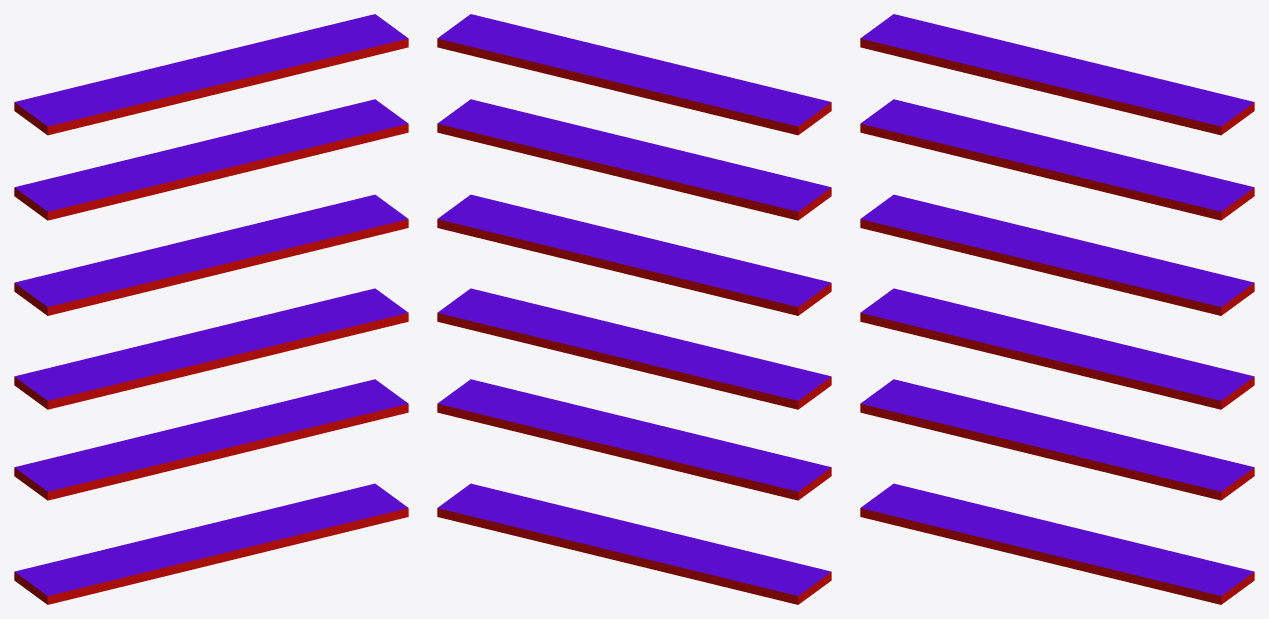
The model's file is shaderHorizontal-2.fbx.
The picture shows the model from 3 angles, left to right: view 1: azimuth 30°, elevation 25°; view 2: azimuth 150°, elevation 25°; view 3: azimuth 330°, elevation 25°; orthographic projection.
Parts seen in each view (by area): view 1: shaderHorizontal-2; view 2: shaderHorizontal-2; view 3: shaderHorizontal-2.
Part boxes in pixels (x1,y1,x2,y2): shaderHorizontal-2: [14, 14, 408, 604]; shaderHorizontal-2: [437, 14, 831, 604]; shaderHorizontal-2: [860, 14, 1254, 604].
Size of the model in its own units: 1000 by 1266 by 161.
